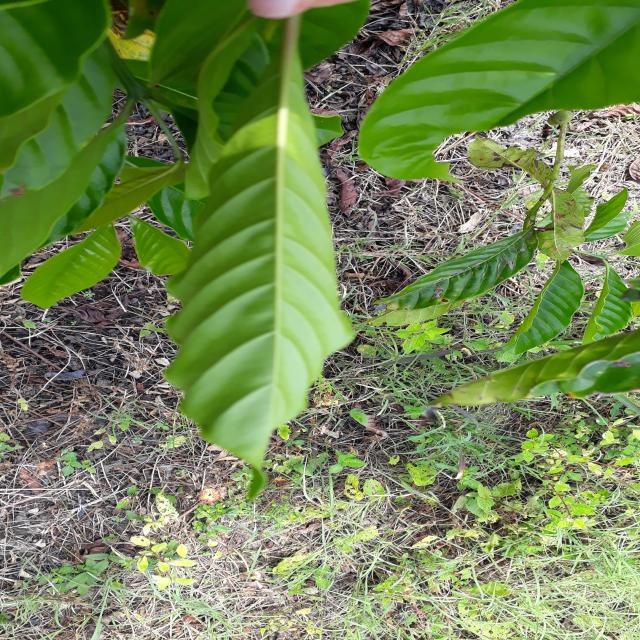Sanas: (163, 0, 370, 476)
